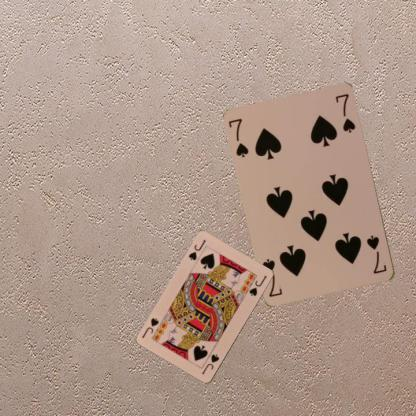7s: (364, 233, 388, 276), (226, 116, 250, 159)
Js: (198, 352, 221, 376), (186, 237, 207, 262)
